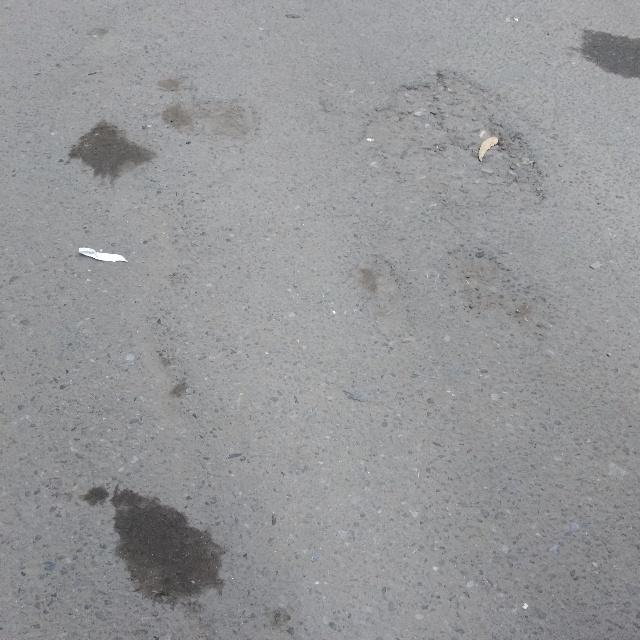Pothole: (392, 107, 524, 180), (460, 248, 551, 333), (128, 515, 220, 596), (84, 141, 144, 166)
